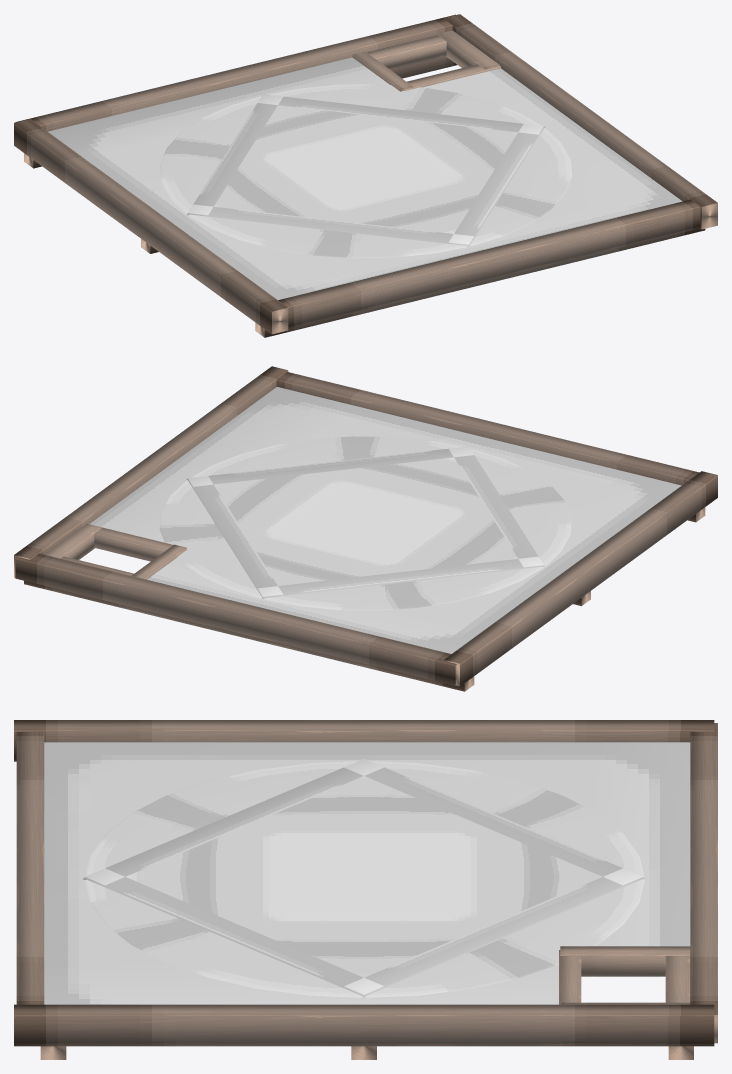
Rendered from SM_FloorTowerChurch.fbx.
3 views of the same model, one above another, from view 1: azimuth 30°, elevation 25°; view 2: azimuth 150°, elevation 25°; view 3: azimuth 270°, elevation 25° (orthographic). The views are drawn at different scales.
Visible parts, largest first — view 1: SM_FloorTowerChurch_LOD0; view 2: SM_FloorTowerChurch_LOD0; view 3: SM_FloorTowerChurch_LOD0.
Part boxes in pixels (x1=…): SM_FloorTowerChurch_LOD0: x1=14, y1=14, x2=717, y2=337; SM_FloorTowerChurch_LOD0: x1=14, y1=366, x2=717, y2=691; SM_FloorTowerChurch_LOD0: x1=14, y1=720, x2=717, y2=1059.
Bounding box in the file's own units: 999 × 1006 × 72.72.
